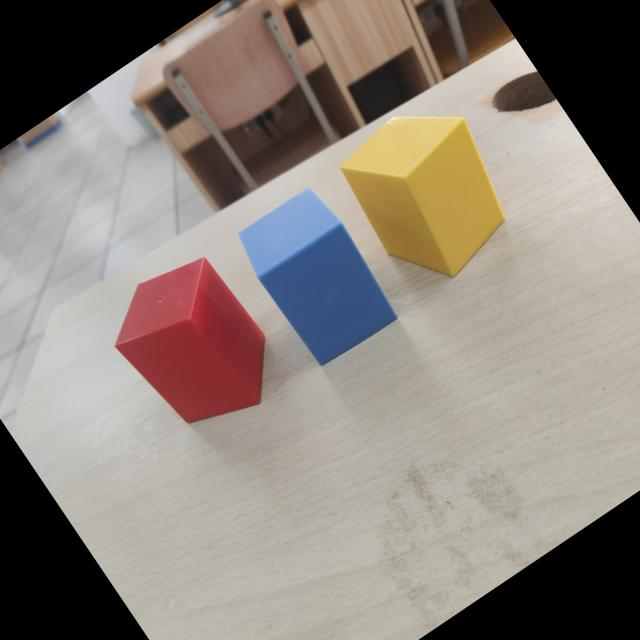blue: (241, 191, 398, 366)
red: (115, 257, 268, 425)
yellow: (341, 115, 507, 279)
